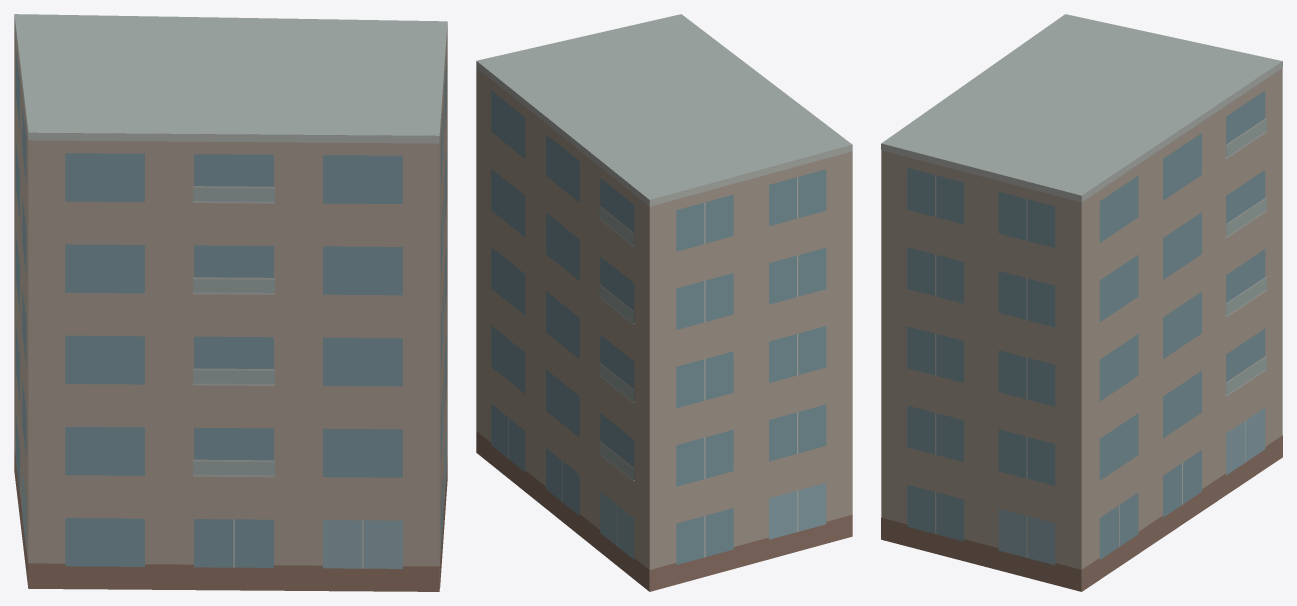
The model's file is survey-upis-32880176.glb.
The picture shows the model from 3 angles, left to right: view 1: azimuth 30°, elevation 25°; view 2: azimuth 150°, elevation 25°; view 3: azimuth 270°, elevation 25°; orthographic projection. The views are drawn at different scales.
Visible parts, largest first — view 1: survey-upis-32880176.tmp; view 2: survey-upis-32880176.tmp; view 3: survey-upis-32880176.tmp.
Boxes of the visible parts, x1=… form: survey-upis-32880176.tmp: x1=14, y1=14, x2=447, y2=591; survey-upis-32880176.tmp: x1=476, y1=14, x2=852, y2=591; survey-upis-32880176.tmp: x1=881, y1=14, x2=1282, y2=591.
Size of the model in its own units: 14.17 by 14.4 by 13.24.
